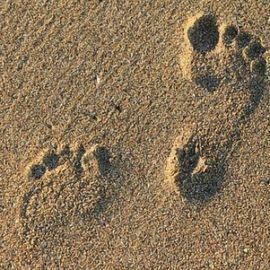human_foot_print: (165, 7, 264, 217), (14, 136, 122, 224)
